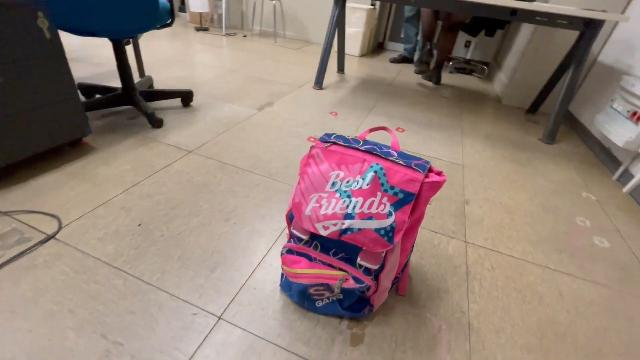Backpack: (275, 120, 453, 328)
Lamp: (185, 1, 215, 34)
Stool: (247, 0, 286, 46)
